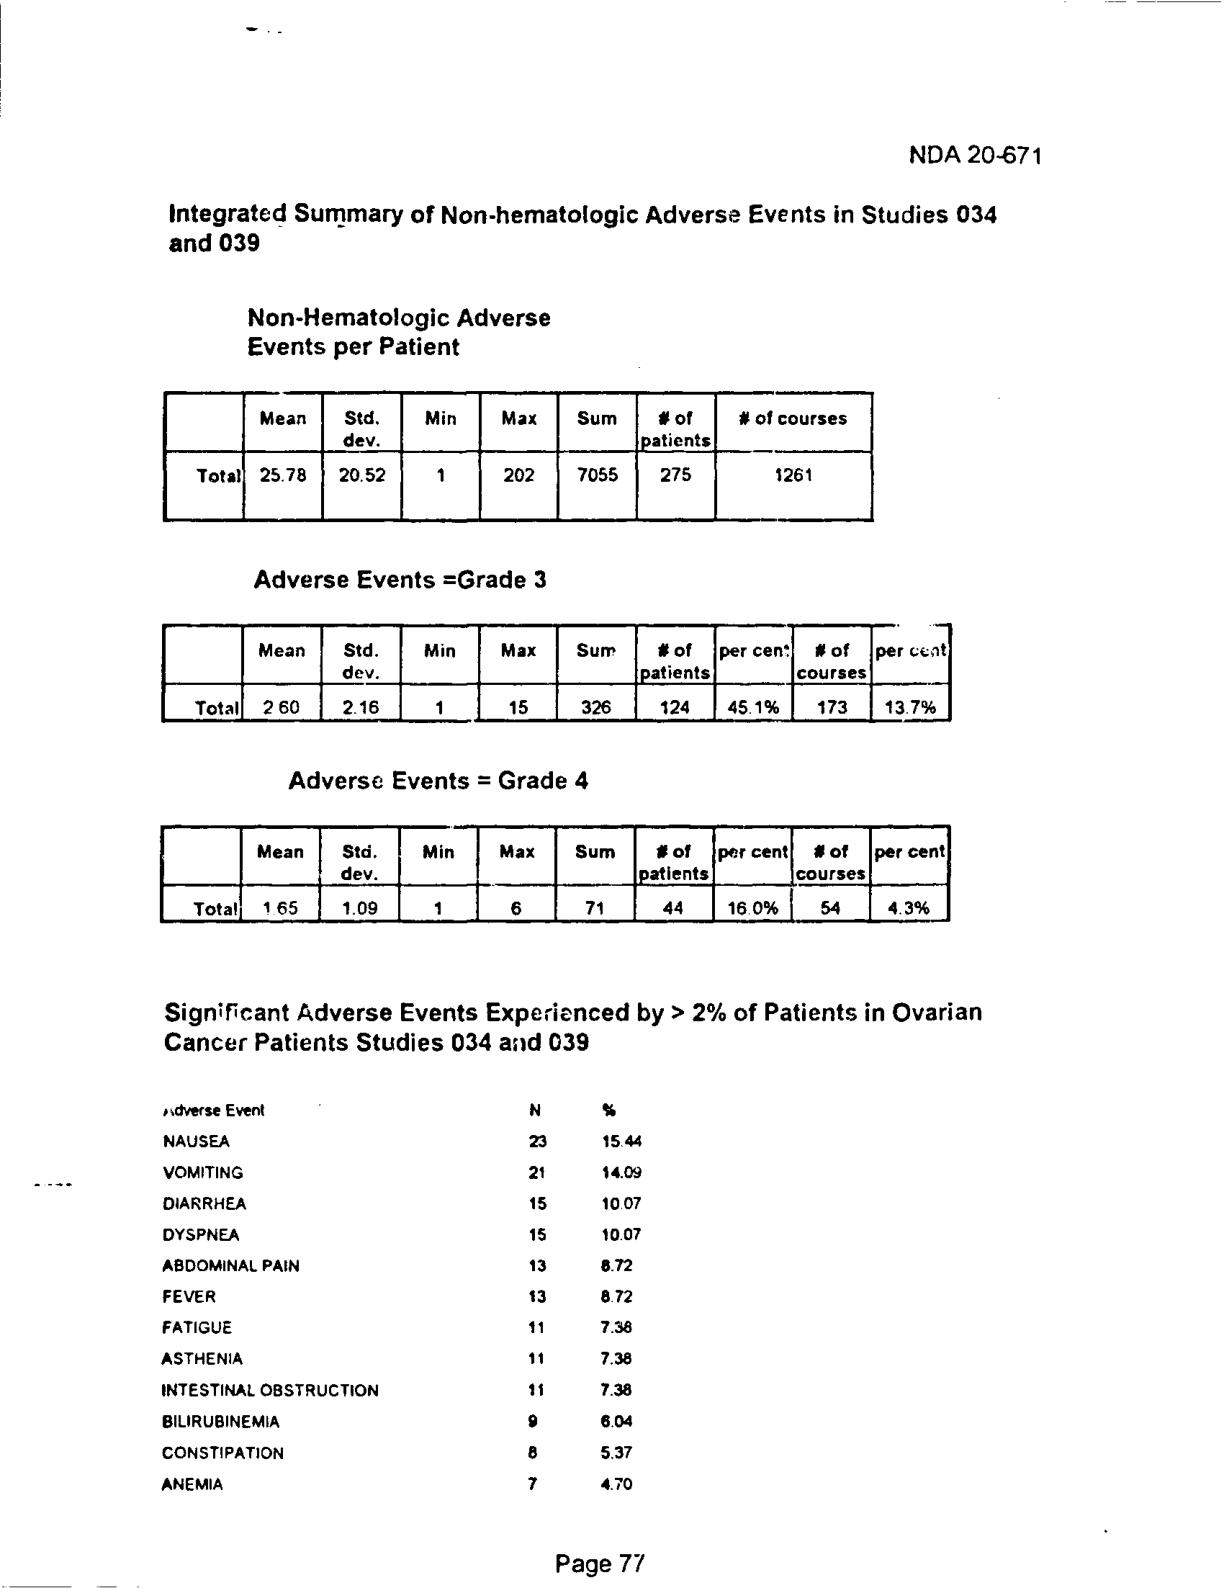full_lined: (161, 390, 877, 523), (157, 823, 954, 925), (161, 621, 954, 723)
nolines: (152, 1094, 647, 1497)
